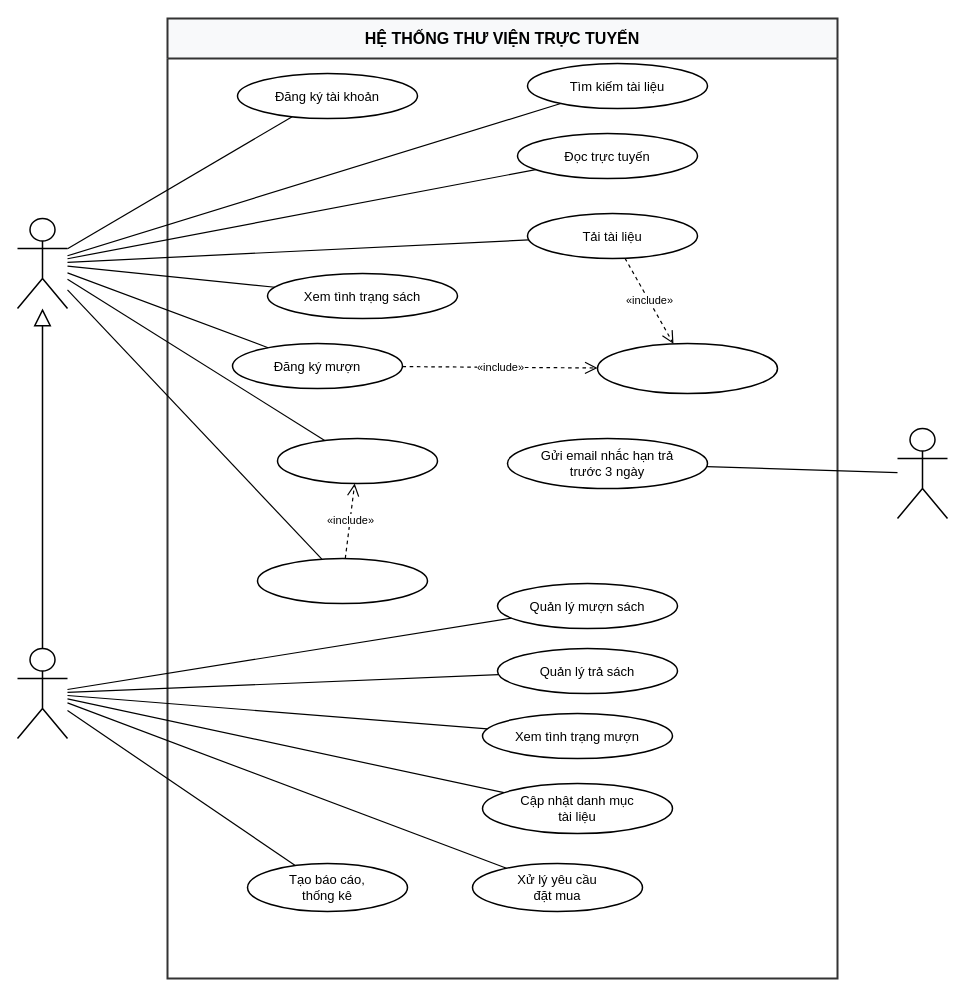
The diagram is 968 pixels wide and 996 high, and some of its shapes have lost their labels. The centre of each missing label's shape, as x and y in pixels:
"Hệ thống" goes at (x=922, y=473).
"Thủ thư" goes at (x=42, y=693).
"Xác thực mã thẻ thư viện" goes at (x=687, y=368).
"Đăng nhập" goes at (x=357, y=460).
"Đặt mua tài liệu" goes at (x=342, y=580).
"Độc giả" goes at (x=42, y=263).
